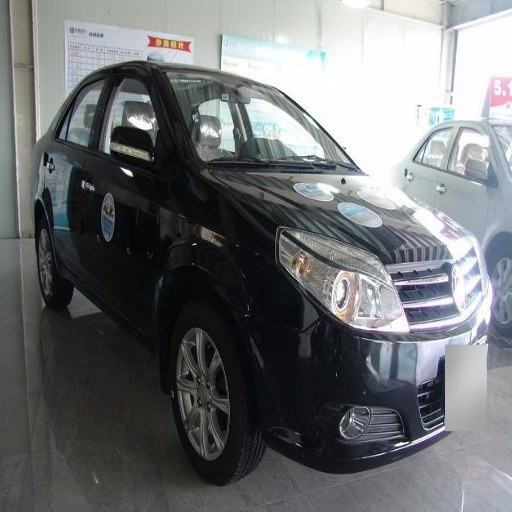front_bumper: (273, 309, 477, 467)
front_right_door: (88, 64, 174, 311)
front_right_light: (323, 265, 410, 338)
